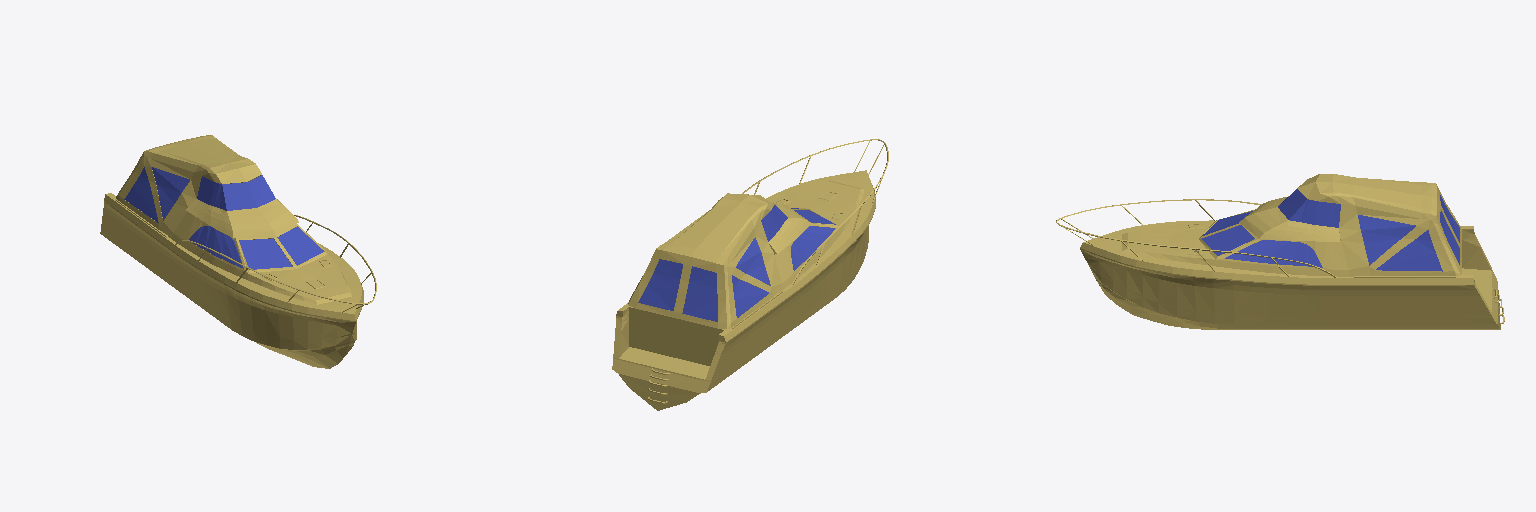
The model's file is Yacht_WithCanopy.obj.
The picture shows the model from 3 angles: view 1: azimuth 30°, elevation 25°; view 2: azimuth 150°, elevation 25°; view 3: azimuth 270°, elevation 25°; orthographic projection.
Parts seen in each view (by area): view 1: Yacht_WithCanopy_LP; view 2: Yacht_WithCanopy_LP; view 3: Yacht_WithCanopy_LP.
Part boxes in pixels (x1,y1,x2,y2): Yacht_WithCanopy_LP: (100,135,376,368); Yacht_WithCanopy_LP: (612,139,888,410); Yacht_WithCanopy_LP: (1056,174,1504,329).
Size of the model in its own units: 2.28 by 2.94 by 8.05.